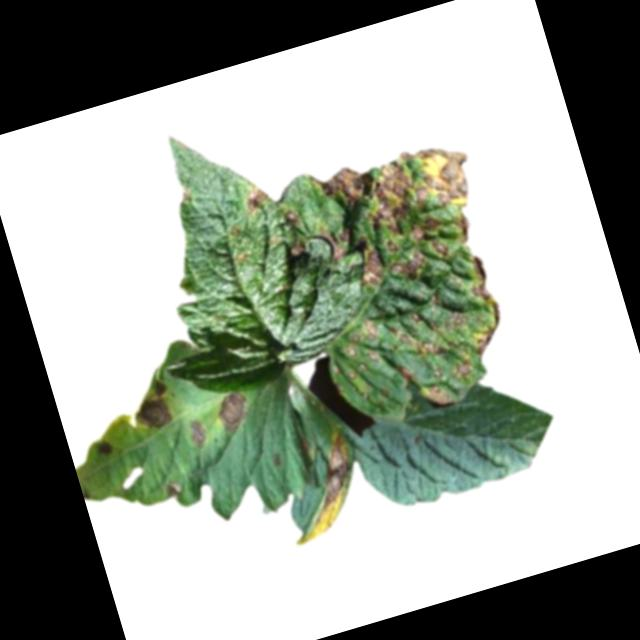Early_blight: (272, 133, 535, 435), (267, 428, 373, 551), (125, 381, 177, 435), (210, 387, 253, 435), (180, 414, 210, 451), (241, 185, 267, 214), (159, 479, 186, 505), (284, 240, 309, 263), (94, 440, 114, 461)
